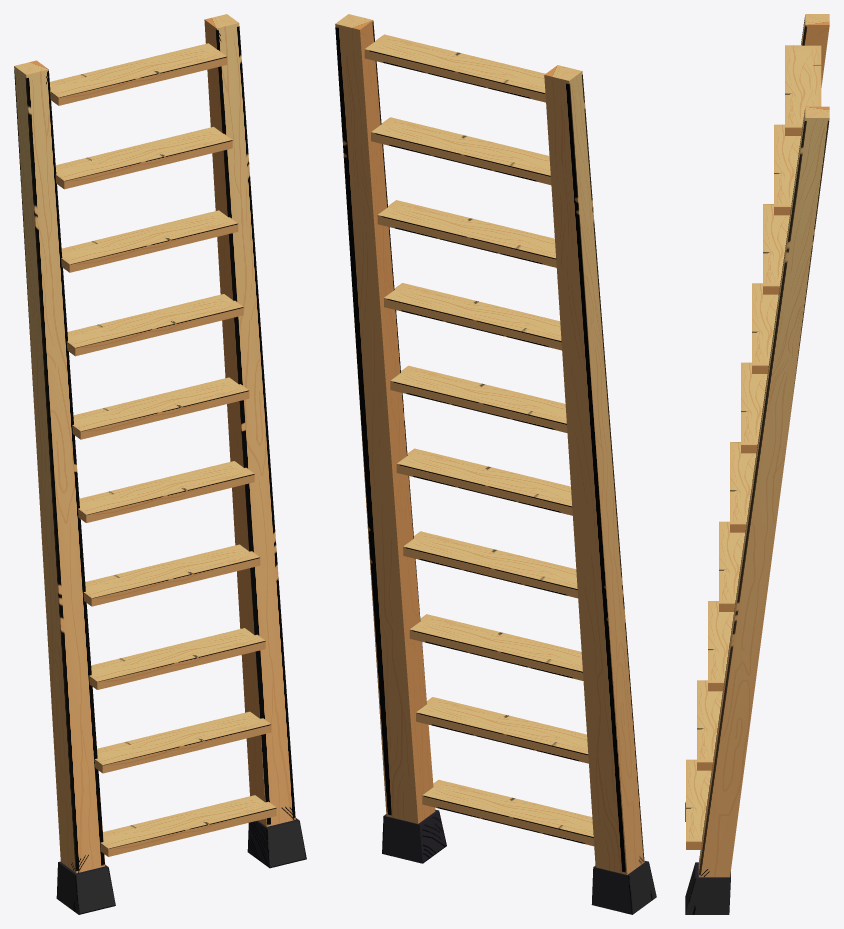
File: WoodLadder.fbx
3 renders of one model, left to right at view 1: azimuth 30°, elevation 25°; view 2: azimuth 150°, elevation 25°; view 3: azimuth 270°, elevation 25°, orthographic. The views are drawn at different scales.
Parts seen in each view (by area): view 1: WoodLadder; view 2: WoodLadder; view 3: WoodLadder.
Part boxes in pixels (bbox=[...]): WoodLadder: bbox=[14, 14, 306, 914]; WoodLadder: bbox=[335, 14, 656, 914]; WoodLadder: bbox=[685, 14, 829, 914].
Bounding box in the file's own units: 60.12 × 200 × 33.02.
